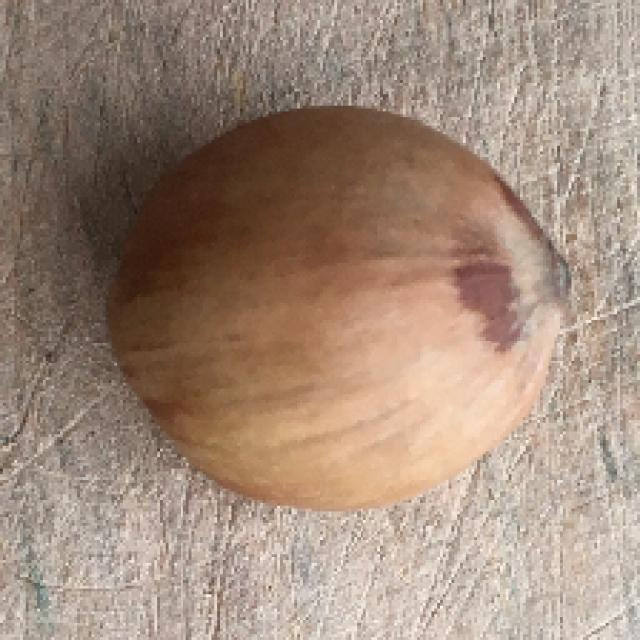qualityHazelnut: (105, 108, 572, 503)
